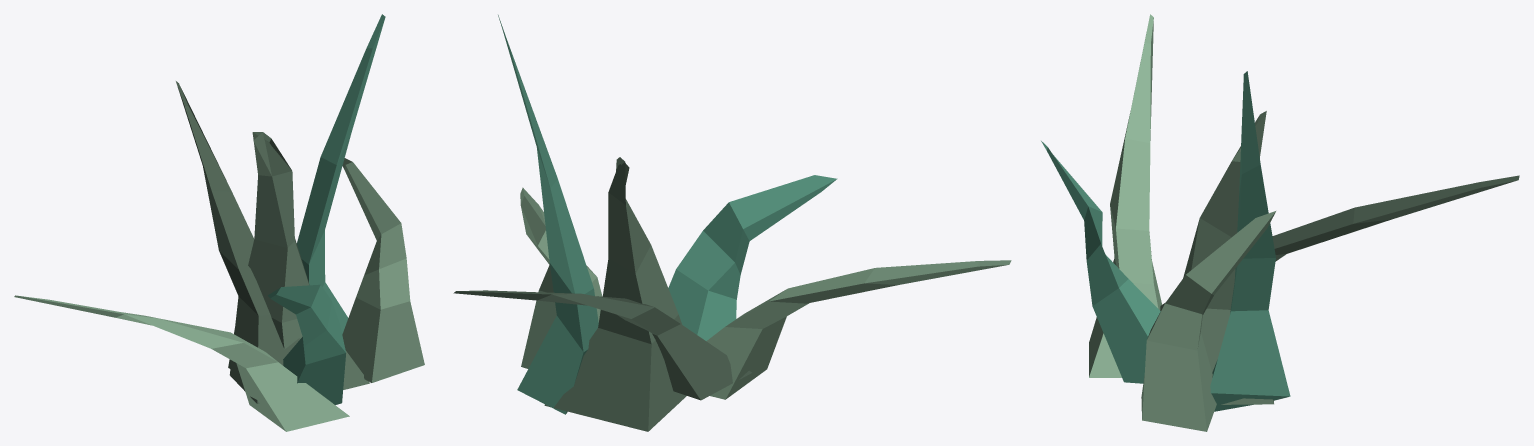
Rendered from Grass.fbx.
3 views of the same model, side by side, from view 1: azimuth 30°, elevation 25°; view 2: azimuth 150°, elevation 25°; view 3: azimuth 270°, elevation 25° (orthographic). The views are drawn at different scales.
Parts seen in each view (by area): view 1: Cube.005, Cube, Cube.002, Cube.007, Cube.004, Cube.003; view 2: Cube, Cube.003, Cube.004, Cube.002, Cube.007, Cube.005; view 3: Cube.004, Cube.005, Cube.002, Cube.003, Cube, Cube.007.
Boxes of the visible parts, x1,y1,x2,y2 form: Cube.005: [342, 158, 424, 382]; Cube: [228, 132, 369, 389]; Cube.002: [14, 295, 349, 431]; Cube.007: [176, 81, 299, 403]; Cube.004: [296, 14, 385, 334]; Cube.003: [268, 284, 345, 404]; Cube: [544, 157, 686, 431]; Cube.003: [668, 175, 837, 340]; Cube.004: [498, 15, 598, 414]; Cube.002: [706, 260, 1011, 399]; Cube.007: [453, 290, 751, 400]; Cube.005: [520, 187, 602, 368]; Cube.004: [1210, 71, 1290, 411]; Cube.005: [1141, 211, 1275, 431]; Cube.002: [1089, 14, 1162, 377]; Cube.003: [1041, 141, 1160, 383]; Cube: [1183, 111, 1273, 404]; Cube.007: [1160, 175, 1519, 310].
Bounding box in the file's own units: 1292 × 1002 × 1165.
